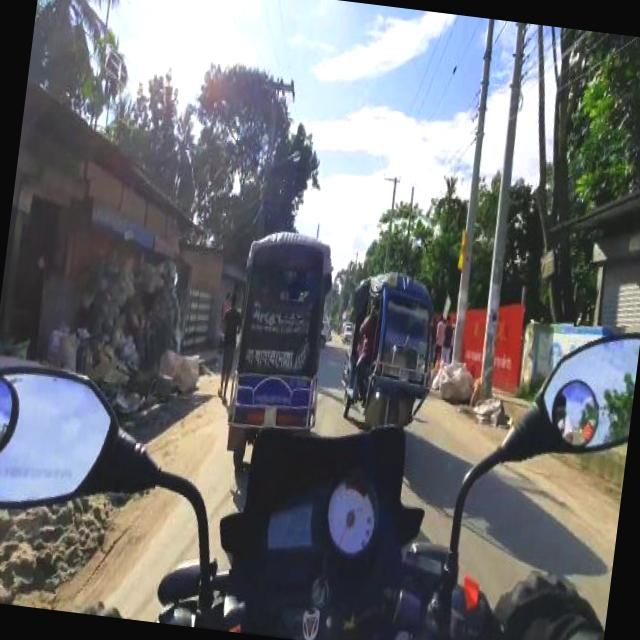car: (318, 318, 332, 348), (340, 321, 351, 342)
motorcycle: (0, 326, 631, 640), (221, 226, 338, 473), (337, 270, 446, 430)
